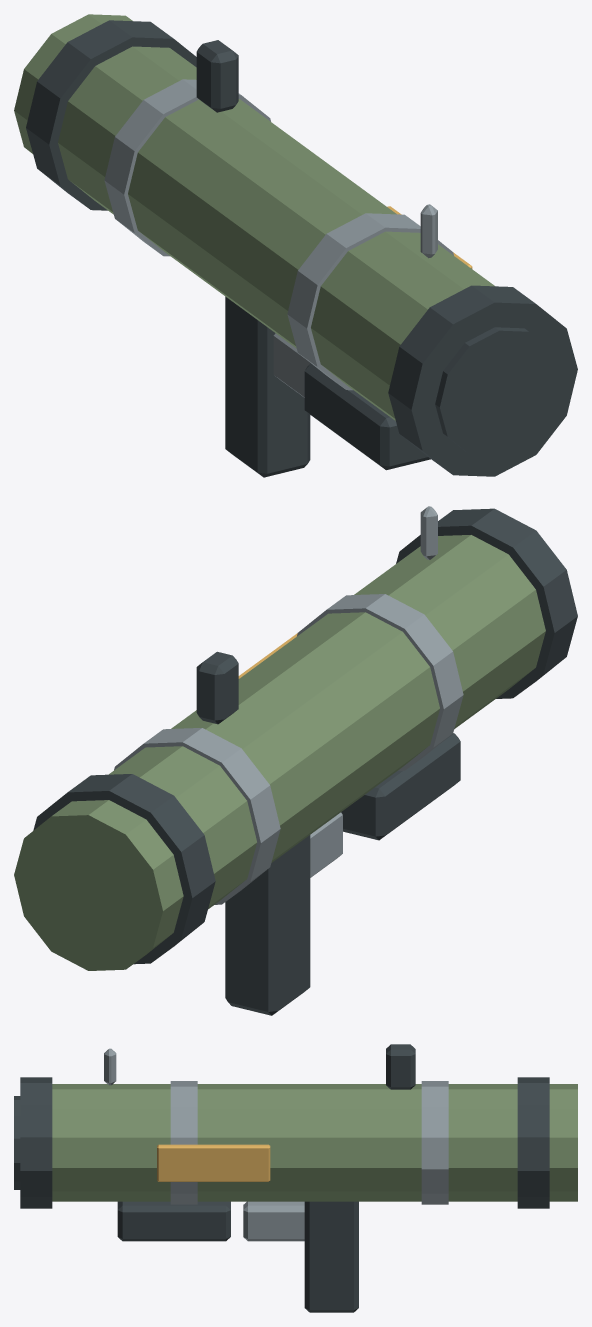
The model's file is rocket_launcher.glb.
The picture shows the model from 3 angles, top to bottom: view 1: azimuth 30°, elevation 25°; view 2: azimuth 150°, elevation 25°; view 3: azimuth 270°, elevation 25°; orthographic projection. The views are drawn at different scales.
Visible parts, largest first — view 1: Launch tube, Protective rim, Muzzle interior, Pistol grip, Protective rim.001, Front hand rest, Tube reinforcement, Tube reinforcement.001, Rear sight, Trigger guard, Front sight; view 2: Launch tube, Pistol grip, Protective rim.001, Protective rim, Front hand rest, Tube reinforcement.001, Tube reinforcement, Rear sight, Trigger guard, Front sight; view 3: Launch tube, Pistol grip, Front hand rest, Protective rim, Protective rim.001, Warning marking, Tube reinforcement.001, Trigger guard, Tube reinforcement, Rear sight, Muzzle interior, Front sight.
Part boxes in pixels (box(x1,y1,x2,y2)): Launch tube: box(14, 14, 494, 420); Protective rim: box(388, 285, 577, 476); Muzzle interior: box(435, 327, 558, 455); Pistol grip: box(225, 296, 310, 477); Protective rim.001: box(26, 20, 196, 210); Front hand rest: box(304, 363, 430, 470); Tube reinforcement: box(287, 213, 453, 390); Tube reinforcement.001: box(104, 79, 270, 256); Rear sight: box(196, 40, 238, 112); Trigger guard: box(273, 333, 310, 397); Front sight: box(420, 204, 437, 258); Launch tube: box(14, 535, 545, 970); Pistol grip: box(225, 835, 310, 1015); Protective rim.001: box(33, 774, 215, 964); Protective rim: box(396, 508, 577, 698); Front hand rest: box(341, 733, 460, 840); Tube reinforcement.001: box(114, 728, 280, 904); Tube reinforcement: box(297, 594, 463, 770); Rear sight: box(196, 651, 238, 724); Trigger guard: box(310, 812, 342, 877); Front sight: box(420, 506, 437, 559); Launch tube: box(52, 1084, 577, 1201); Pistol grip: box(304, 1201, 358, 1312); Front hand rest: box(117, 1201, 230, 1241); Protective rim: box(20, 1077, 52, 1208); Protective rim.001: box(517, 1077, 549, 1208); Warning marking: box(157, 1144, 270, 1181); Tube reinforcement.001: box(421, 1081, 448, 1204); Trigger guard: box(243, 1201, 304, 1241); Tube reinforcement: box(170, 1081, 197, 1204); Rear sight: box(386, 1044, 415, 1089); Muzzle interior: box(14, 1096, 20, 1189); Front sight: box(104, 1048, 116, 1085).
Size of the model in its own units: 0.268 by 0.58 by 1.15.
